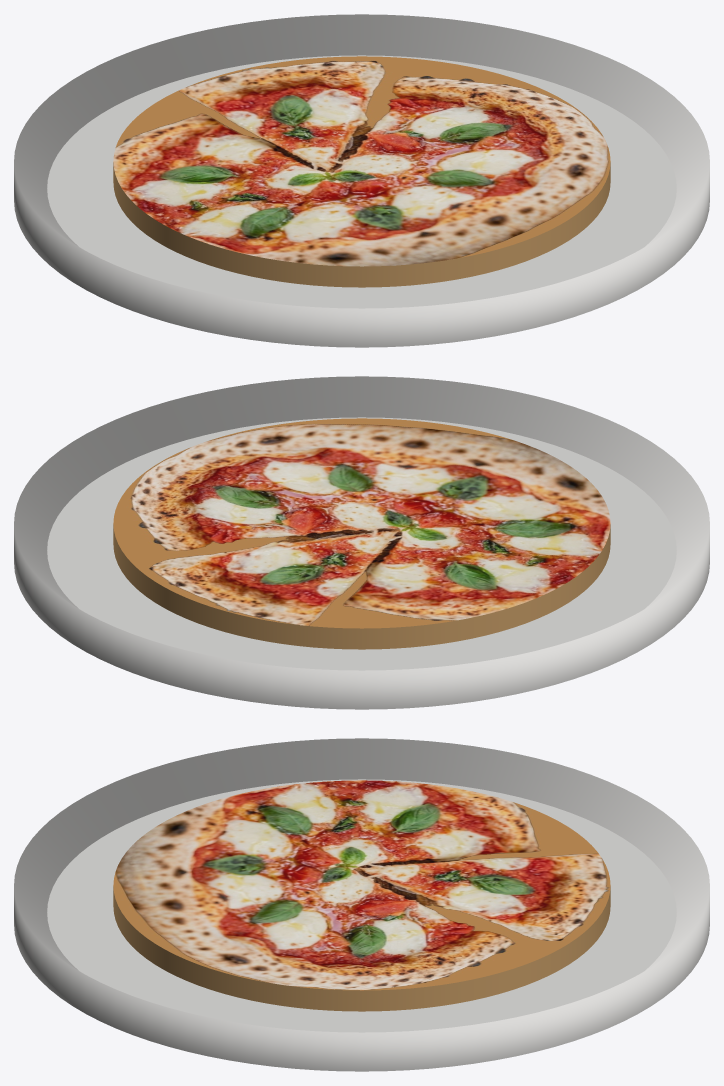
File: pizza-margarita-demo.glb
The picture shows the model from 3 angles, top to bottom: view 1: azimuth 30°, elevation 25°; view 2: azimuth 150°, elevation 25°; view 3: azimuth 270°, elevation 25°; orthographic projection.
Visible parts, largest first — view 1: plato, pizza; view 2: plato, pizza; view 3: plato, pizza.
Boxes of the visible parts, <box> form: plato: <box>14,14,709,347</box>; pizza: <box>113,56,610,287</box>; plato: <box>14,376,709,709</box>; pizza: <box>113,418,610,649</box>; plato: <box>14,738,709,1071</box>; pizza: <box>113,780,610,1011</box>.
Size of the model in its own units: 0.42 by 0.026 by 0.42.
Materials: 3 (1 with a texture image).
